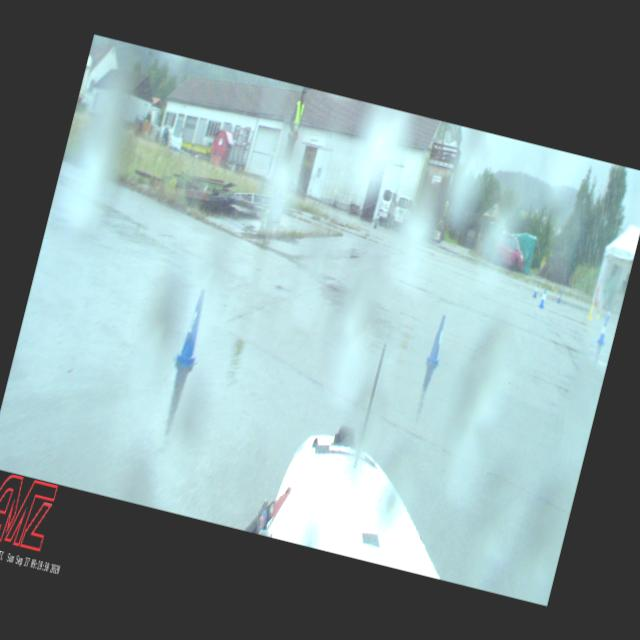blue_cone: (172, 286, 215, 368), (426, 314, 450, 364), (596, 318, 610, 345), (538, 288, 548, 308), (532, 283, 538, 298), (605, 308, 611, 322)
yellow_cone: (586, 300, 596, 320), (594, 305, 602, 318)
